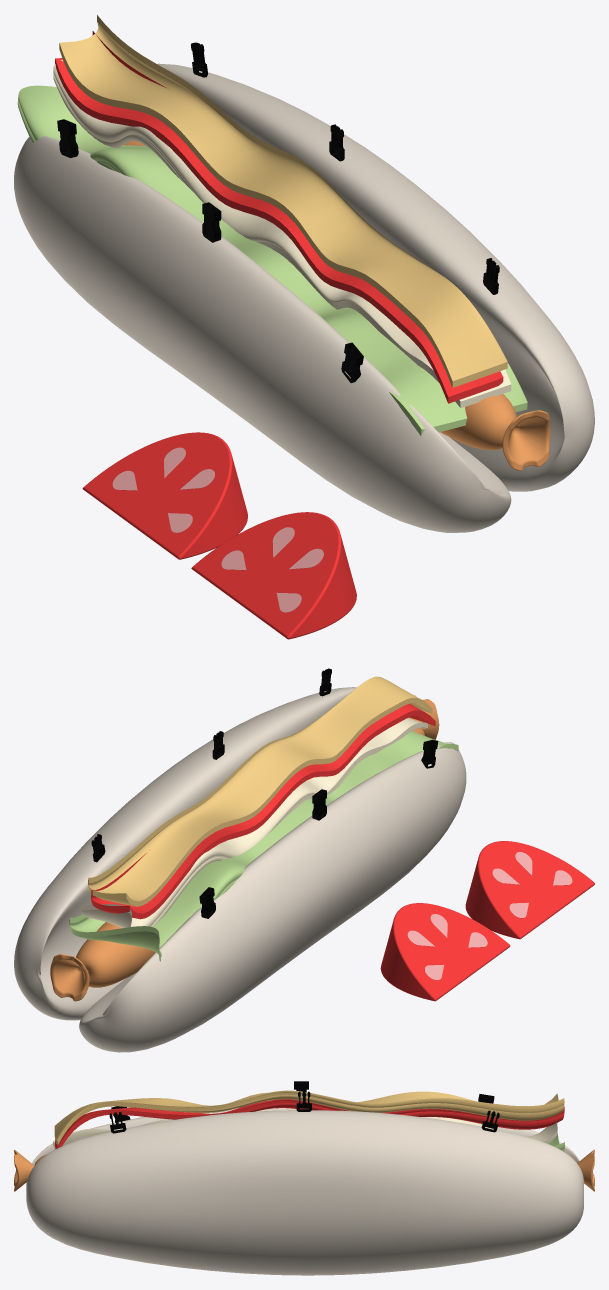
The model's file is completo3.glb.
3 views of the same model, one above another, from view 1: azimuth 30°, elevation 25°; view 2: azimuth 150°, elevation 25°; view 3: azimuth 270°, elevation 25° (orthographic). The views are drawn at different scales.
Parts seen in each view (by area): view 1: Cuerpo3, mostaza, Cuerpo1, tomate_2, tomate_1, ketchup, mayo, Cuerpo2, Cuerpo9; view 2: Cuerpo3, mostaza, Cuerpo1, tomate_1, tomate_2, mayo, ketchup, Cuerpo2, Cuerpo10; view 3: Cuerpo3, mostaza, ketchup, mayo, Cuerpo9, Cuerpo10.
Part boxes in pixels (box(x1,y1,x2,y2)): Cuerpo3: box(14, 63, 594, 532); mostaza: box(59, 15, 507, 387); Cuerpo1: box(17, 85, 527, 435); tomate_2: box(191, 512, 356, 639); tomate_1: box(82, 432, 247, 559); ketchup: box(55, 31, 503, 403); mayo: box(53, 59, 511, 407); Cuerpo2: box(124, 141, 516, 450); Cuerpo9: box(502, 410, 550, 470); Cuerpo3: box(14, 687, 466, 1052); mostaza: box(88, 676, 432, 906); Cuerpo1: box(69, 731, 458, 961); tomate_1: box(380, 903, 510, 1001); tomate_2: box(465, 841, 594, 939); mayo: box(80, 718, 427, 928); ketchup: box(91, 703, 435, 919); Cuerpo2: box(76, 728, 424, 987); Cuerpo10: box(50, 954, 89, 1001); Cuerpo3: box(26, 1108, 583, 1275); mostaza: box(54, 1090, 564, 1145); ketchup: box(55, 1099, 564, 1148); mayo: box(53, 1117, 557, 1149); Cuerpo9: box(14, 1149, 34, 1191); Cuerpo10: box(577, 1149, 594, 1191).
Bounding box in the file's own units: 0.8411 × 0.6745 × 1.88.
